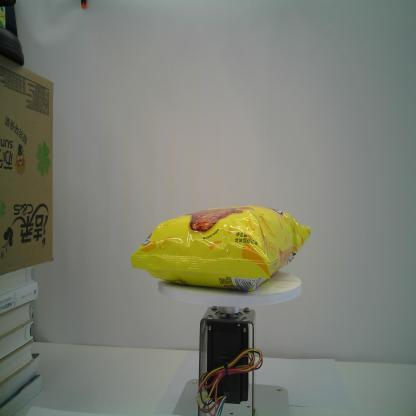Puffed Food: (126, 197, 311, 294)
